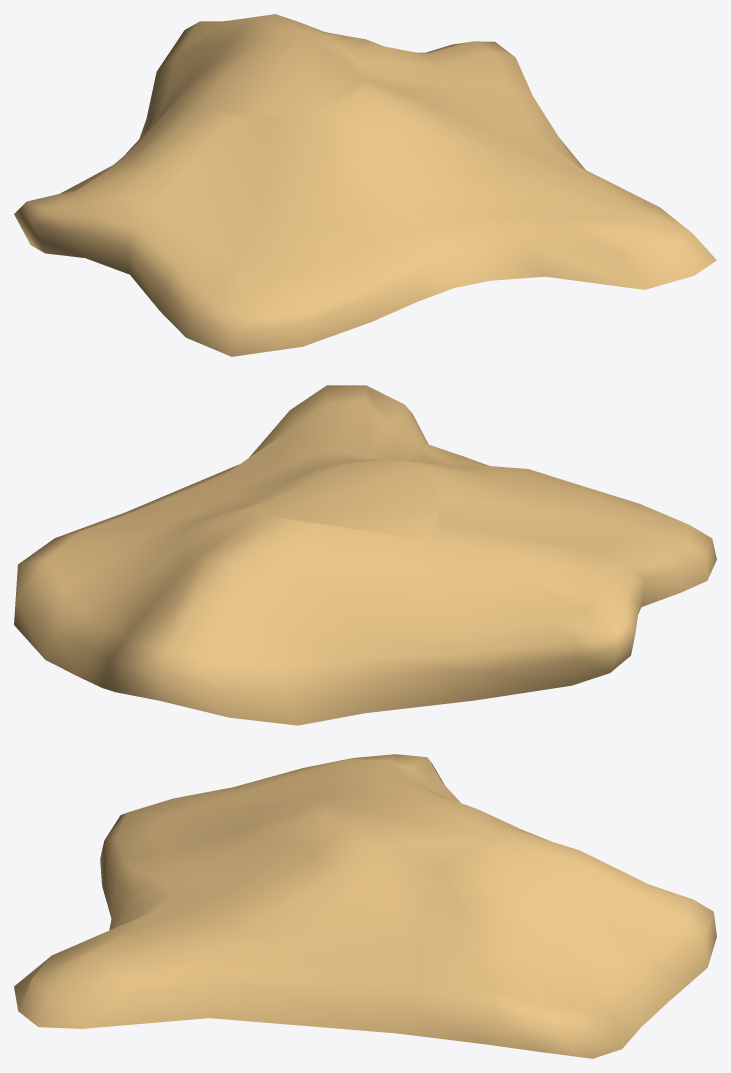
Rendered from island_004.glb.
3 views of the same model, one above another, from view 1: azimuth 30°, elevation 25°; view 2: azimuth 150°, elevation 25°; view 3: azimuth 270°, elevation 25° (orthographic).
Parts seen in each view (by area): view 1: Circle.001; view 2: Circle.001; view 3: Circle.001.
Boxes of the visible parts, x1=… form: Circle.001: x1=14, y1=14, x2=716, y2=356; Circle.001: x1=14, y1=385, x2=716, y2=725; Circle.001: x1=14, y1=754, x2=716, y2=1058.
Size of the model in its own units: 14.57 by 3.7 by 16.57.
